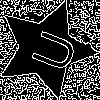U: (21, 24, 79, 75)
